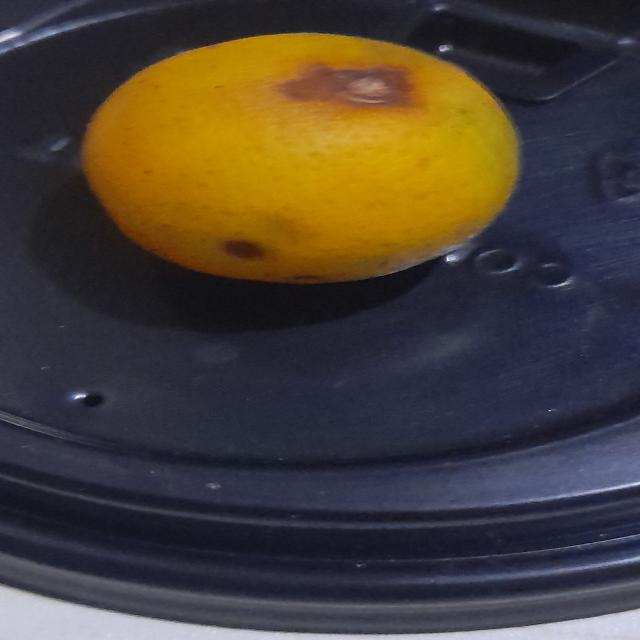black spot: (78, 28, 523, 288)
